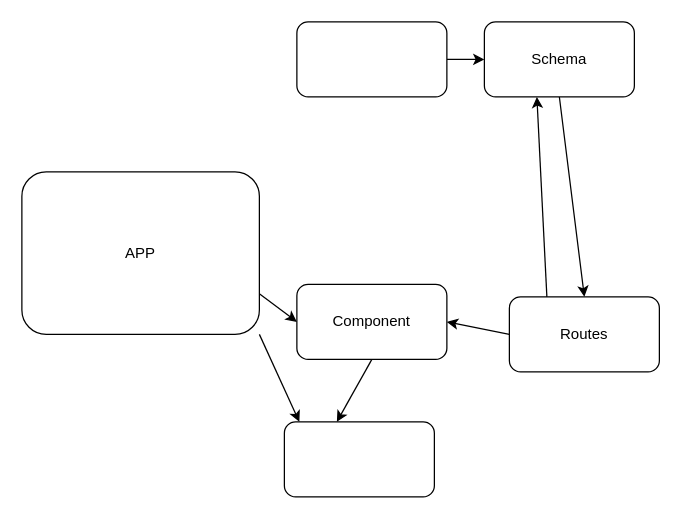
Some shapes in this 681 by 519 pixel diagram are drawn without their labels. Each missing label, with the centre of its shape:
"Db-Server" goes at (x=371, y=59).
"Font-" goes at (x=358, y=459).
